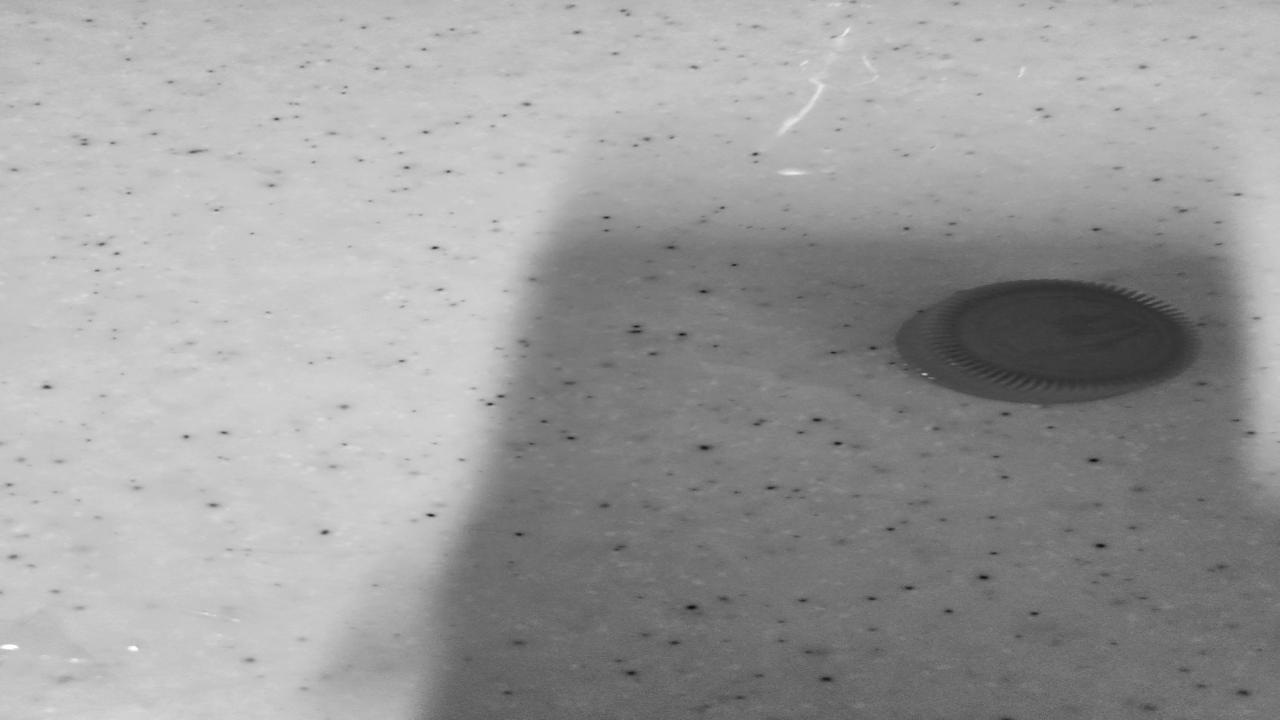bottle_cap: (886, 277, 1212, 406)
